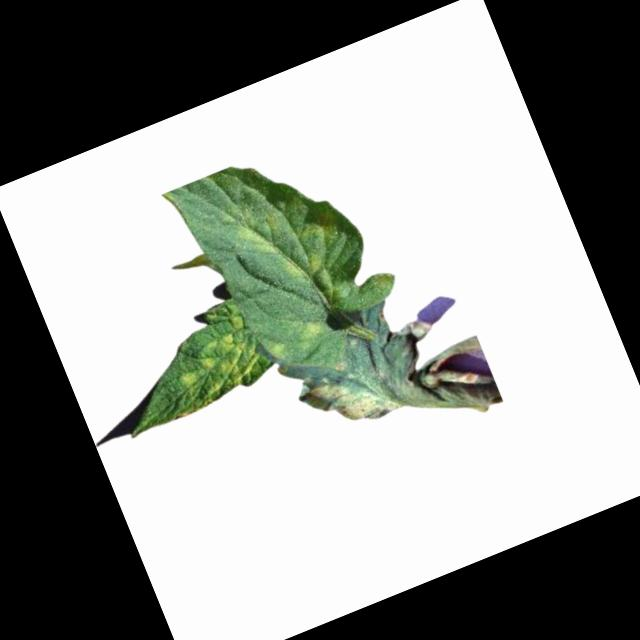Leaf_Mold: (230, 184, 344, 298), (164, 310, 270, 412), (299, 354, 402, 441), (292, 309, 331, 346)
